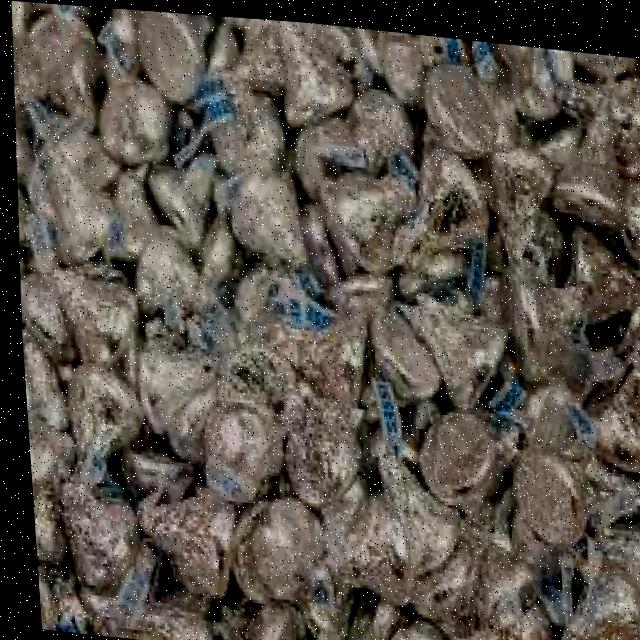kisses: (39, 346, 151, 485), (394, 275, 512, 403), (541, 81, 640, 224), (29, 257, 145, 379), (393, 132, 486, 283), (41, 478, 142, 614), (494, 247, 587, 390), (210, 498, 326, 610), (85, 22, 172, 166), (140, 492, 244, 609), (220, 165, 329, 276), (27, 132, 116, 264), (260, 15, 357, 135), (131, 320, 214, 451), (324, 137, 408, 265), (405, 51, 493, 172), (192, 390, 283, 502), (278, 303, 379, 403), (558, 214, 640, 334), (132, 8, 224, 111), (514, 435, 594, 550), (143, 137, 221, 250), (409, 410, 495, 509), (378, 461, 450, 575), (554, 549, 640, 640), (237, 342, 293, 405)
